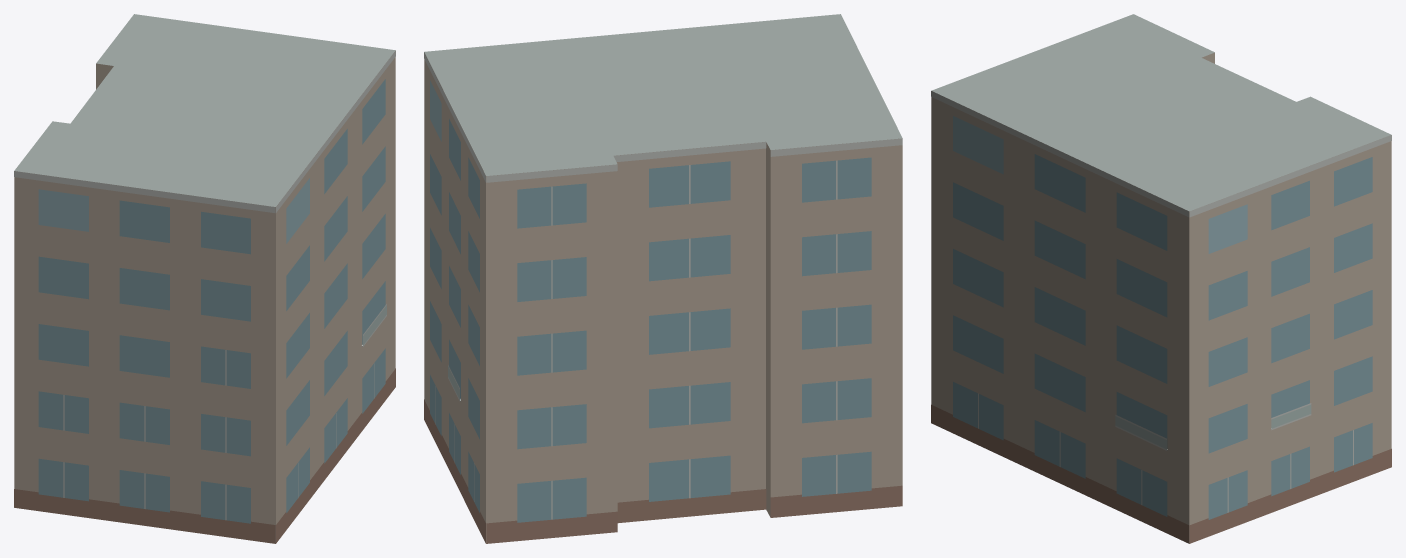
Rendered from survey-upis-32915630.glb.
3 renders of one model, left to right at view 1: azimuth 30°, elevation 25°; view 2: azimuth 150°, elevation 25°; view 3: azimuth 270°, elevation 25°, orthographic. The views are drawn at different scales.
Parts seen in each view (by area): view 1: survey-upis-32915630.tmp; view 2: survey-upis-32915630.tmp; view 3: survey-upis-32915630.tmp.
Part boxes in pixels (<box>): survey-upis-32915630.tmp: <box>14,14,395,543</box>; survey-upis-32915630.tmp: <box>424,14,902,543</box>; survey-upis-32915630.tmp: <box>931,14,1391,543</box>.
Size of the model in its own units: 16.92 by 13.28 by 16.68.
